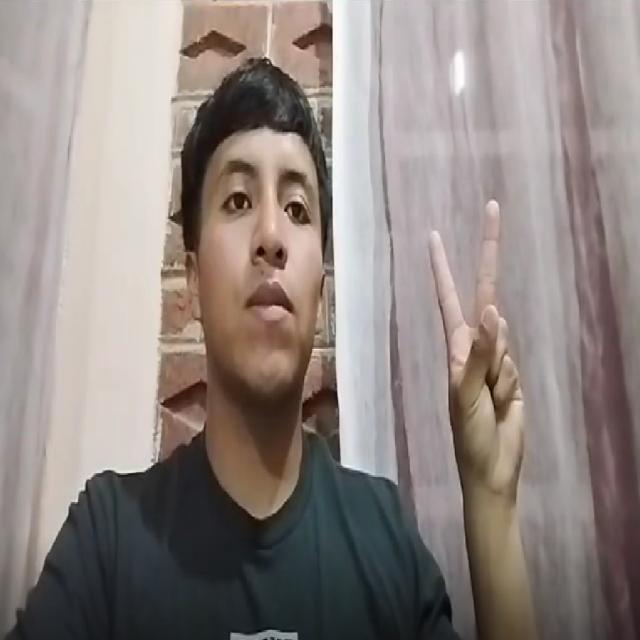V: (398, 192, 548, 510)
